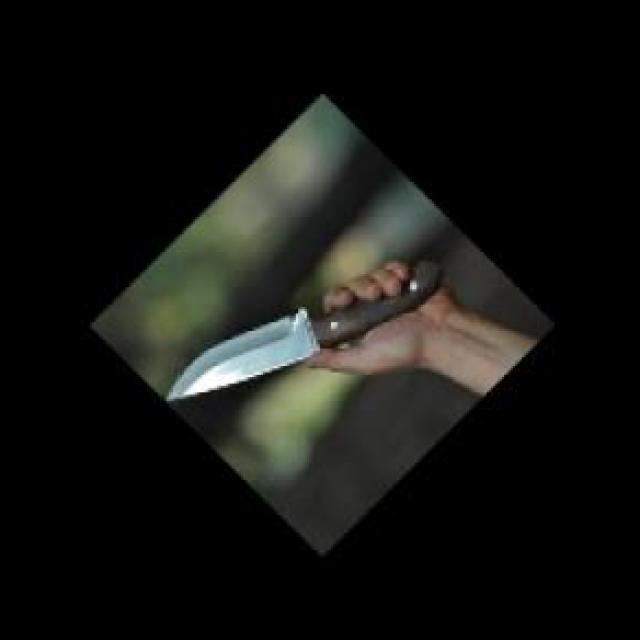knife: (162, 248, 450, 401)
